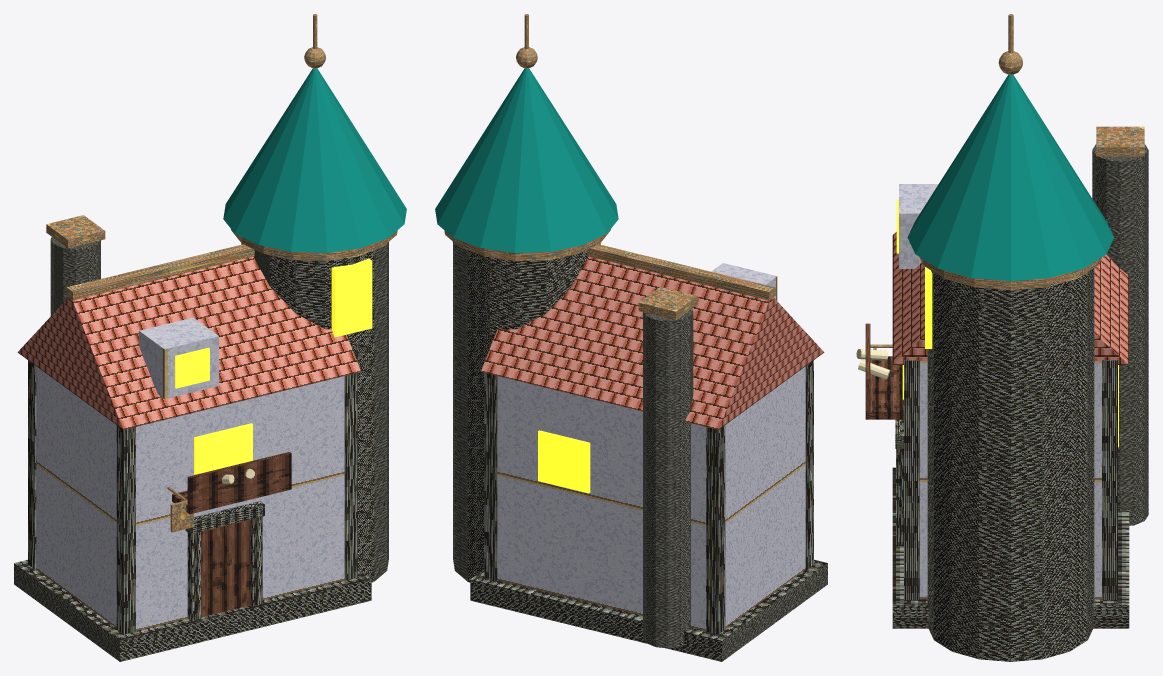
Rendered from casa_kalamu.glb.
3 views of the same model, side by side, from view 1: azimuth 30°, elevation 25°; view 2: azimuth 150°, elevation 25°; view 3: azimuth 270°, elevation 25° (orthographic). The views are drawn at different scales.
Visible parts, largest first — view 1: Cube.001, Kalamu_Techo, Cone, Cylinder, Cube, Cube.010, Cube.002, Cube.008, Cube.016, Cube.006, Cube.004, Cube.007 (+11 smaller); view 2: Cube.001, Kalamu_Techo, Cone, Cylinder, Cylinder.006, Cube, Cube.003, Cube.005, Cube.007, Cube.019, Cube.002, Cube.018 (+2 smaller); view 3: Cylinder, Cone, Cylinder.006, Kalamu_Techo, Cube, Cube.001, Cube.004, Cube.005, Cube.015, Cube.008, Cylinder.001, Cube.018 (+4 smaller).
Boxes of the visible parts, x1,y1,x2,y2 form: Cube.001: (36, 366, 344, 630); Kalamu_Techo: (17, 256, 360, 429); Cone: (223, 68, 406, 252); Cylinder: (241, 242, 388, 582); Cube: (14, 559, 371, 661); Cube.010: (201, 519, 250, 617); Cube.002: (116, 425, 135, 634); Cube.008: (139, 317, 218, 398); Cube.016: (187, 452, 291, 507); Cube.006: (331, 258, 372, 337); Cube.004: (344, 373, 357, 580); Cube.007: (66, 244, 254, 300); Cube.001: (497, 366, 805, 630); Kalamu_Techo: (481, 256, 824, 429); Cone: (435, 68, 618, 252); Cylinder: (453, 242, 600, 582); Cylinder.006: (643, 309, 693, 648); Cube: (470, 559, 827, 661); Cube.003: (706, 425, 725, 634); Cube.005: (484, 373, 497, 580); Cube.007: (587, 244, 775, 300); Cube.019: (538, 430, 590, 493); Cube.002: (805, 360, 813, 569); Cube.018: (638, 287, 697, 320); Cylinder: (927, 268, 1094, 661); Cone: (907, 74, 1114, 281); Cylinder.006: (1092, 144, 1148, 525); Kalamu_Techo: (892, 232, 1129, 364); Cube: (892, 467, 1129, 628); Cube.001: (919, 361, 1101, 599); Cube.004: (904, 360, 919, 599); Cube.005: (1102, 360, 1117, 599); Cube.015: (865, 356, 903, 419); Cube.008: (899, 184, 938, 268); Cylinder.001: (919, 257, 1101, 290); Cube.018: (1096, 126, 1144, 156).
Bounding box in the file's own units: 4.83 × 7.7 × 3.33.
Materials: 8 (5 with a texture image).
